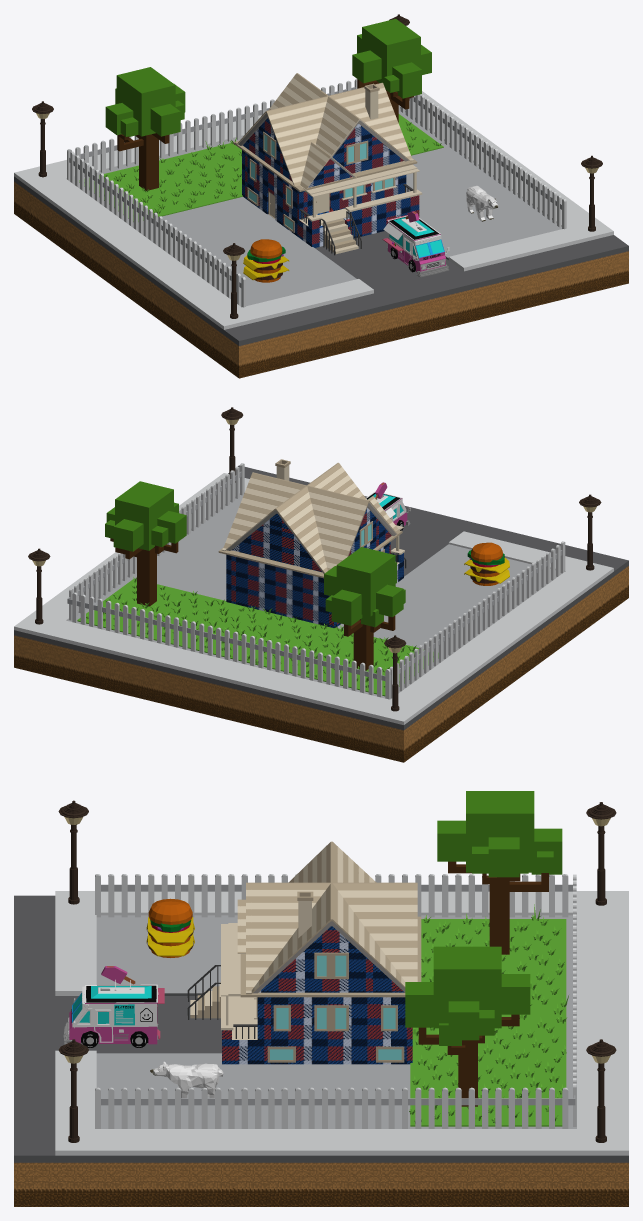
3 renders of one model, top to bottom at view 1: azimuth 30°, elevation 25°; view 2: azimuth 150°, elevation 25°; view 3: azimuth 270°, elevation 25°, orthographic. The views are drawn at different scales.
Visible parts, largest first — view 1: Cube.004, Cube.171, VEHICLES_ICE_CREAM_TRUCK, OBJRANDOM_HAMBURGER, ANIMAL_OSO_POLAR; view 2: Cube.004, Cube.171, OBJRANDOM_HAMBURGER, VEHICLES_ICE_CREAM_TRUCK; view 3: Cube.004, Cube.171, VEHICLES_ICE_CREAM_TRUCK, OBJRANDOM_HAMBURGER, ANIMAL_OSO_POLAR.
Boxes of the visible parts, bbox=[...] form: Cube.004: bbox=[14, 14, 628, 378]; Cube.171: bbox=[233, 73, 422, 255]; VEHICLES_ICE_CREAM_TRUCK: bbox=[382, 211, 449, 277]; OBJRANDOM_HAMBURGER: bbox=[243, 239, 289, 282]; ANIMAL_OSO_POLAR: bbox=[466, 185, 498, 221]; Cube.004: bbox=[14, 407, 628, 762]; Cube.171: bbox=[218, 459, 406, 627]; OBJRANDOM_HAMBURGER: bbox=[464, 542, 509, 585]; VEHICLES_ICE_CREAM_TRUCK: bbox=[366, 482, 410, 530]; Cube.004: bbox=[14, 791, 628, 1206]; Cube.171: bbox=[187, 841, 421, 1064]; VEHICLES_ICE_CREAM_TRUCK: bbox=[63, 966, 164, 1047]; OBJRANDOM_HAMBURGER: bbox=[146, 898, 194, 957]; ANIMAL_OSO_POLAR: bbox=[150, 1061, 223, 1098].
Bounding box in the file's own units: 4000 × 1604 × 4000.
41 materials, 4 textured.
